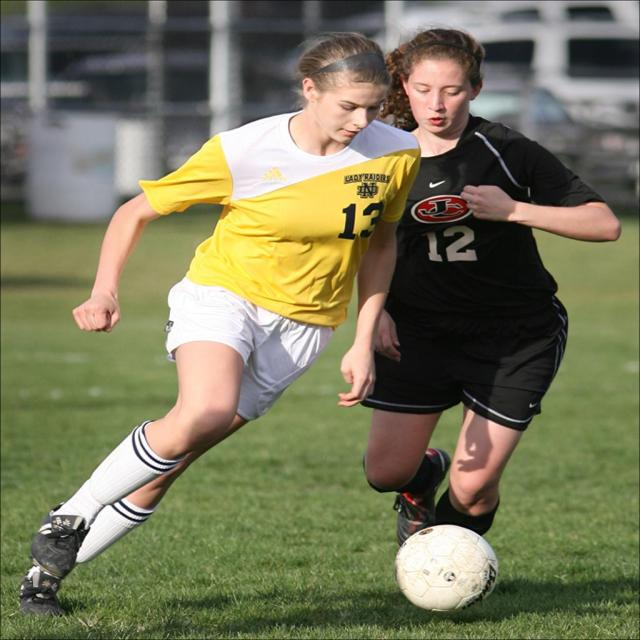Face: (397, 49, 475, 144), (309, 66, 389, 155)
